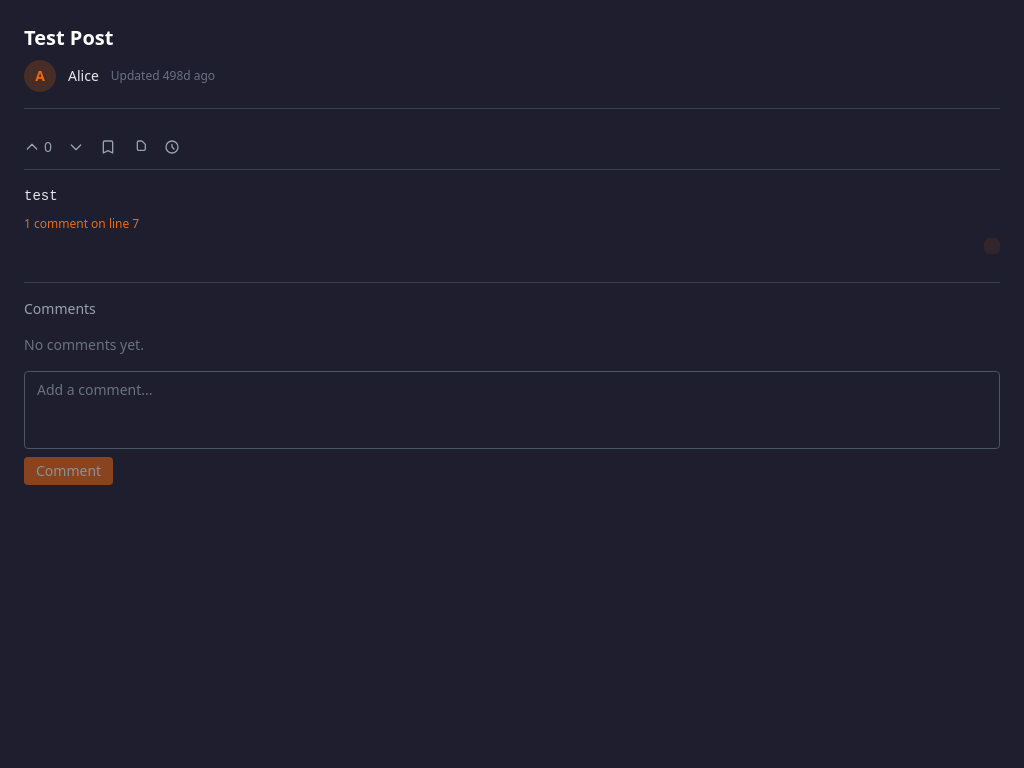
Test: PostDetail › clicking an inline indicator sets inlineCommentLine and shows comments
Click the button "1 comment on line 7".
click(82, 224)  # box [24,216,139,232]
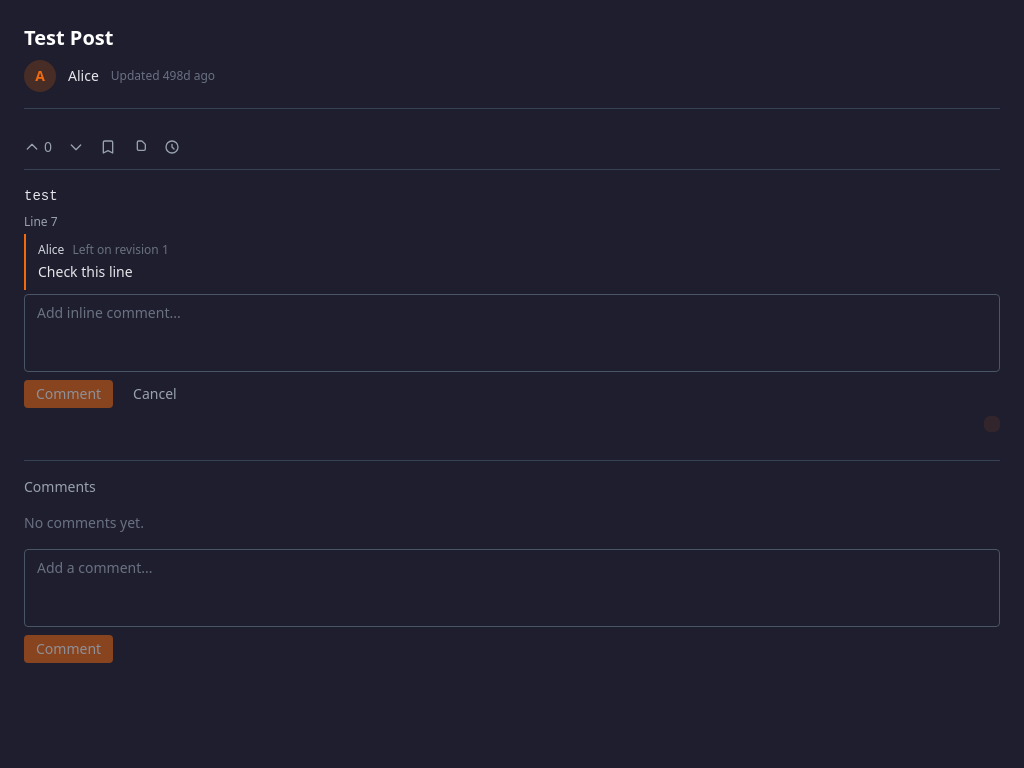
Expected: the text "Line 7" is shown, [24,213,58,230]
Expected: the text "Check this line" is shown, [38,262,133,281]
Expected: the text box with placeholder "Add inline comment..." is shown, [24,294,1000,372]
